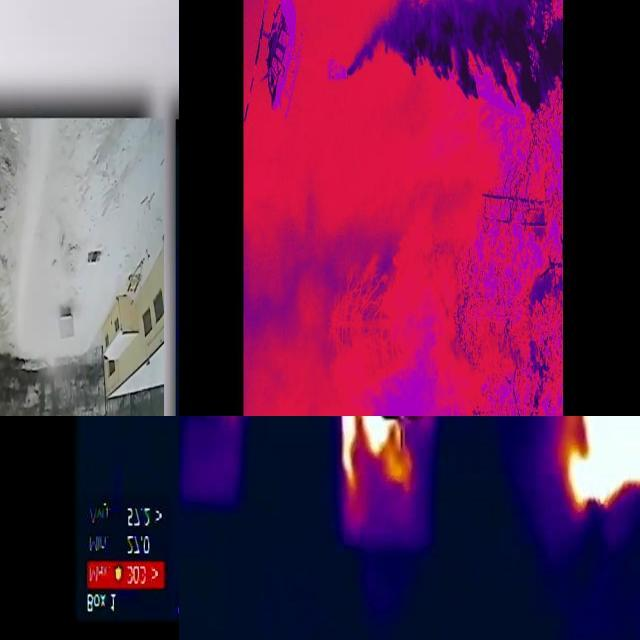fire: (341, 417, 434, 521), (563, 417, 640, 521)
